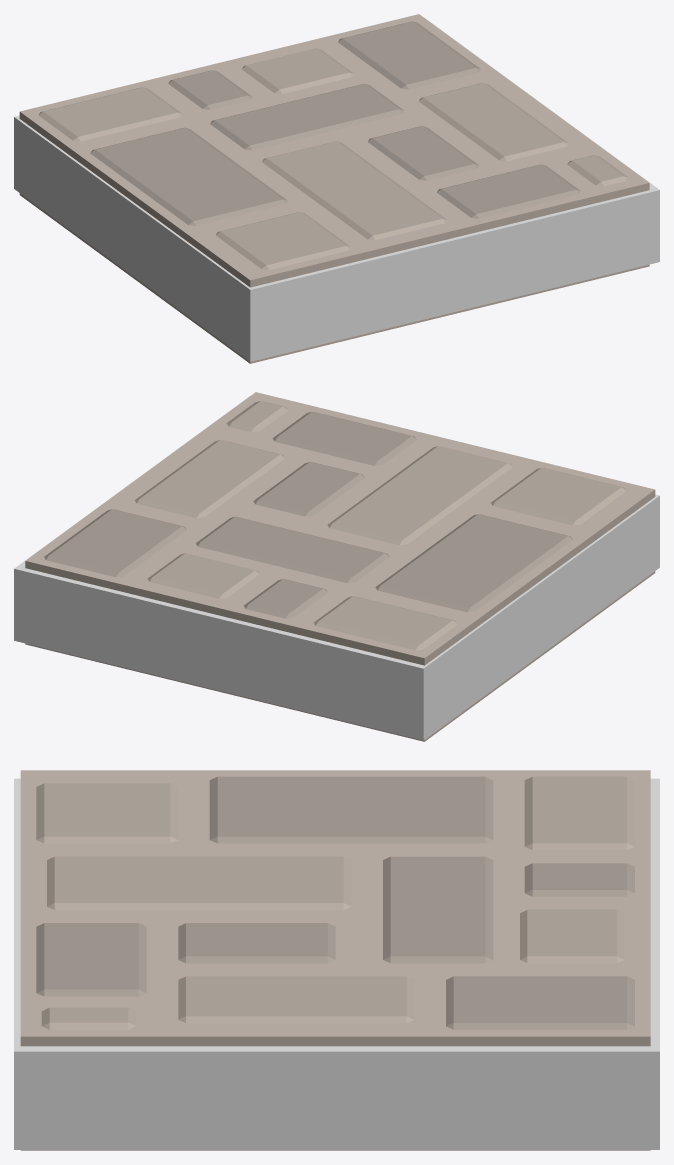
File: modular_village_stone_floor_2.glb
The picture shows the model from 3 angles, top to bottom: view 1: azimuth 30°, elevation 25°; view 2: azimuth 150°, elevation 25°; view 3: azimuth 270°, elevation 25°; orthographic projection. The views are drawn at different scales.
Parts seen in each view (by area): view 1: object1, Cube; view 2: object1, Cube; view 3: object1, Cube.
Boxes of the visible parts, <box> form: object1: <box>19,14,649,363</box>; Cube: <box>14,17,659,361</box>; object1: <box>25,392,655,741</box>; Cube: <box>14,396,659,740</box>; object1: <box>20,770,650,1150</box>; Cube: <box>14,778,659,1149</box>.
Bounding box in the file's own units: 1.03 × 0.2063 × 1.03.
